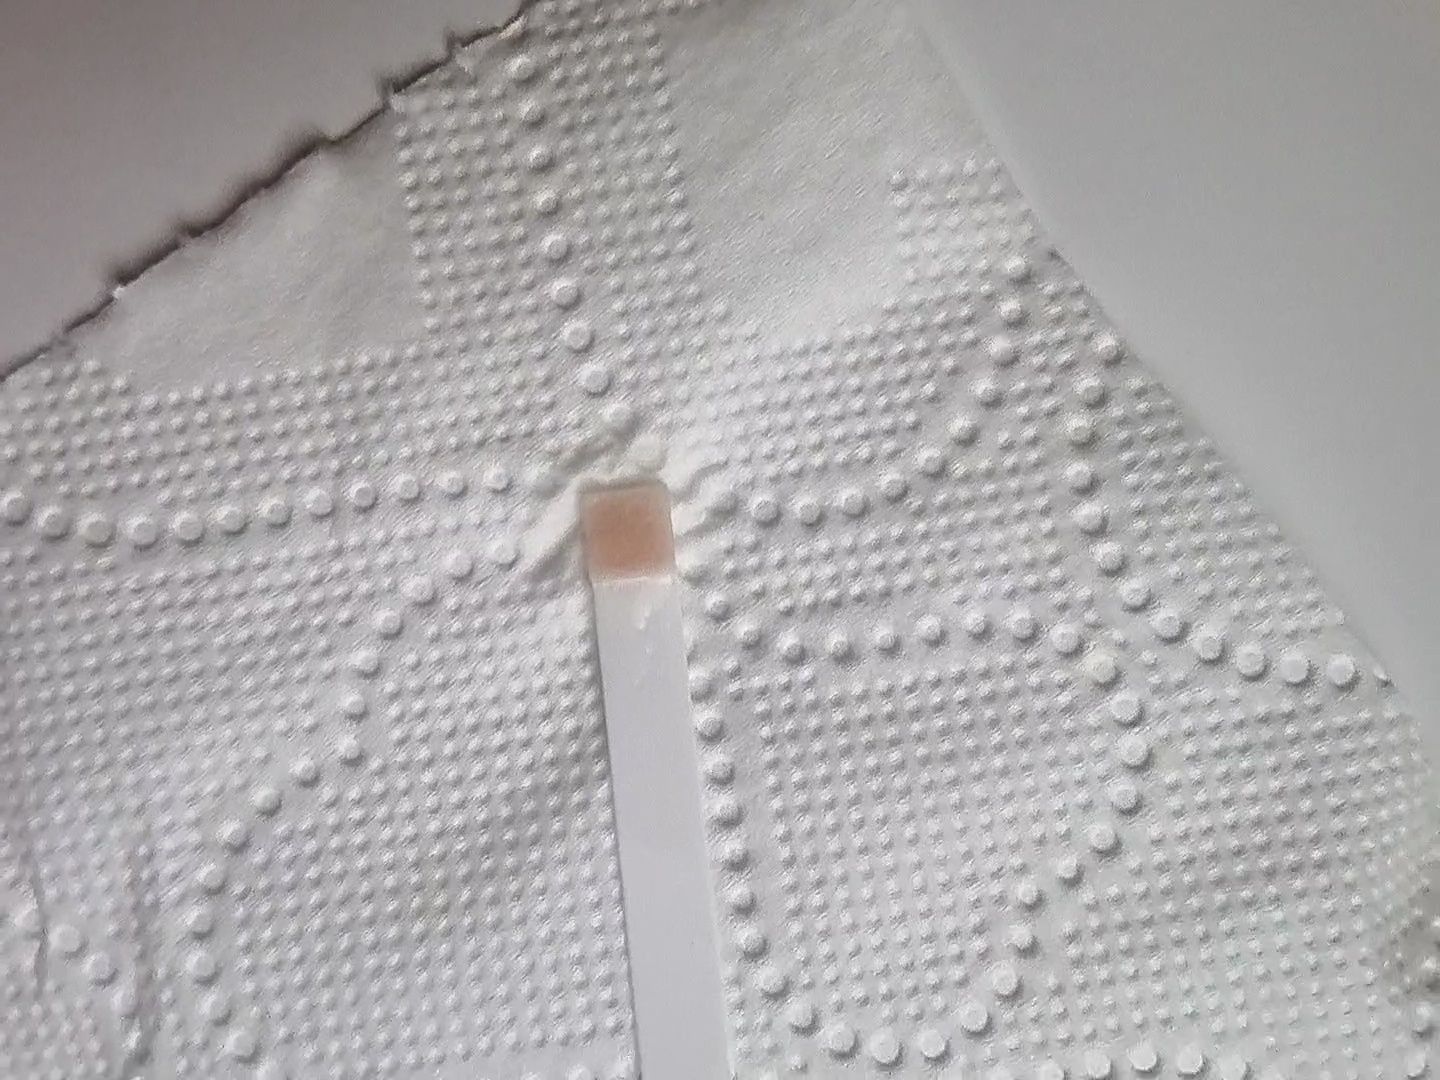keto-tip: (573, 475, 691, 589)
